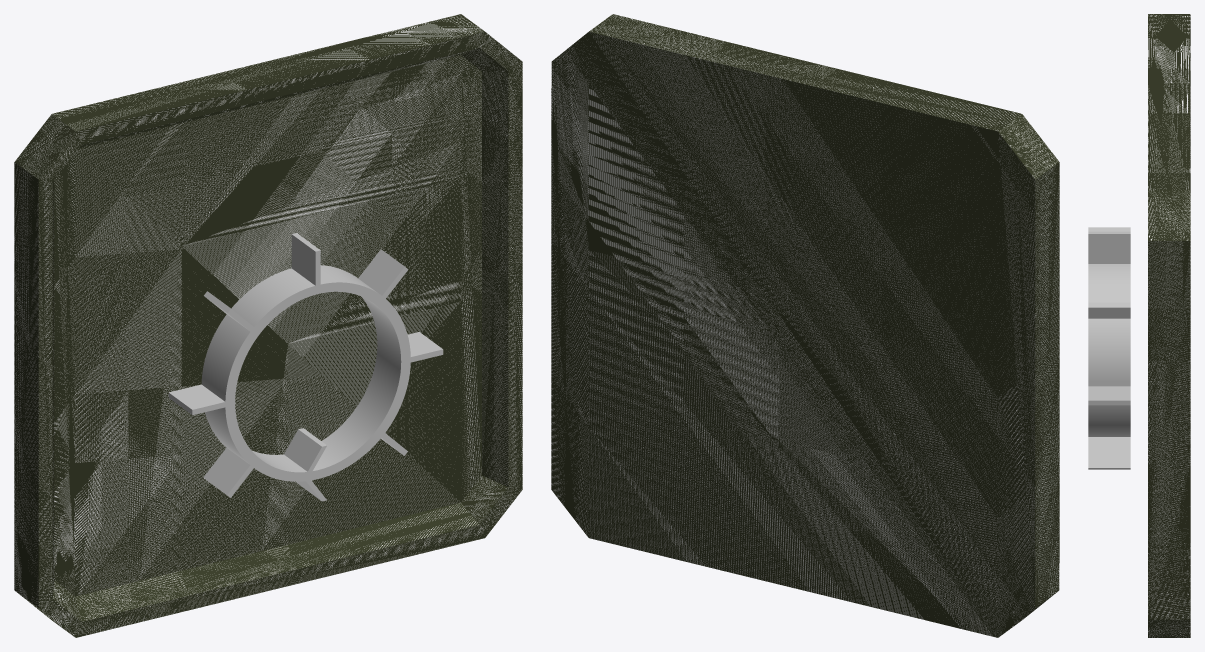
The model's file is CM_-_All_Round_Defence.obj.
3 renders of one model, left to right at view 1: azimuth 30°, elevation 25°; view 2: azimuth 150°, elevation 25°; view 3: azimuth 270°, elevation 25°, orthographic. The views are drawn at different scales.
Parts seen in each view (by area): view 1: Button.001_ID13, Button_ID3, SM_CM_-_All_Round_Defence_path1763-2.064; view 2: Button_ID3; view 3: Button_ID3, SM_CM_-_All_Round_Defence_path1763-2.064.
Part boxes in pixels (<box>): Button.001_ID13: <box>52,48,508,621</box>; Button_ID3: <box>14,14,522,637</box>; SM_CM_-_All_Round_Defence_path1763-2.064: <box>168,233,443,501</box>; Button_ID3: <box>551,14,1059,637</box>; Button_ID3: <box>1148,14,1190,637</box>; SM_CM_-_All_Round_Defence_path1763-2.064: <box>1088,227,1130,469</box>.
Size of the model in its own units: 1 by 1 by 0.2071.
